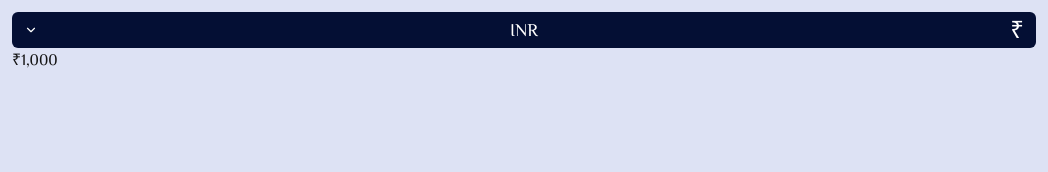
it: currency selection › switches displayed prices and retains manual preference after remount
Later steps or results of the test are not shown.
Expected: the text with test id "price" shows "1,000", [12,51,58,69]
Select "EUR" in the dropdown named "Select currency" at (524, 30), box [12,12,1036,48]
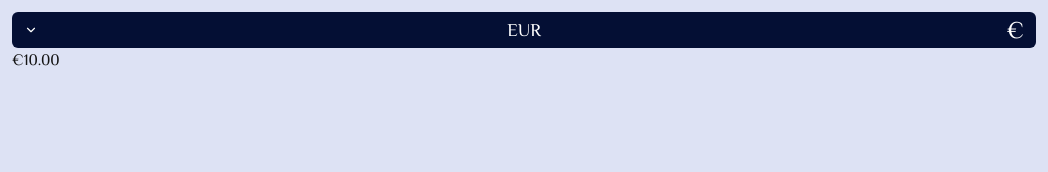
Expected: the text with test id "price" shows "10.00", [12,51,60,69]
Select "USD" in the dropdown named "Select currency" at (524, 30), box [12,12,1036,48]
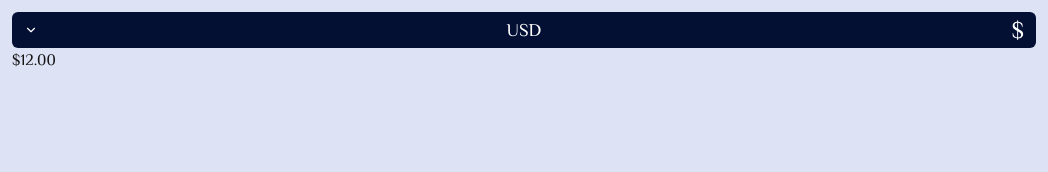
Expected: the text with test id "price" shows "12.00", [12,51,56,69]
